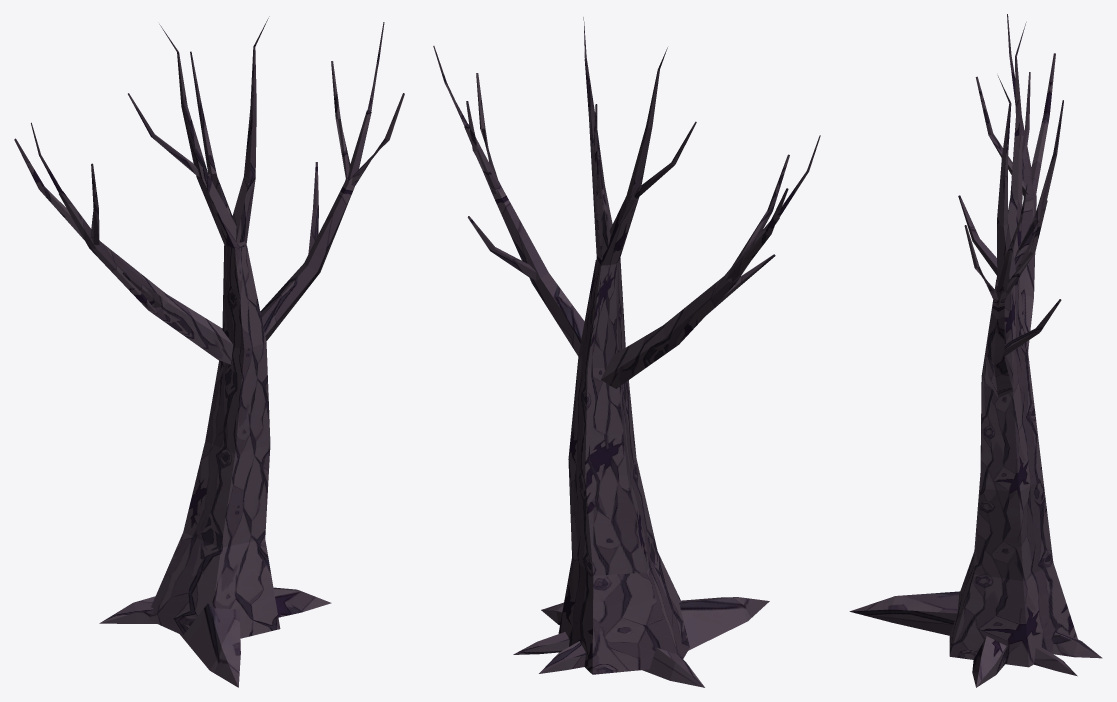
File: Tree01.glb
3 renders of one model, left to right at view 1: azimuth 30°, elevation 25°; view 2: azimuth 150°, elevation 25°; view 3: azimuth 270°, elevation 25°, orthographic. The views are drawn at different scales.
Parts seen in each view (by area): view 1: Tree01; view 2: Tree01; view 3: Tree01.
Boxes of the visible parts, x1,y1,x2,y2 form: Tree01: (14, 16, 404, 687); Tree01: (433, 17, 820, 687); Tree01: (849, 14, 1102, 687).
Size of the model in its own units: 7.47 by 11.77 by 4.54.
Materials: 1 (1 with a texture image).
